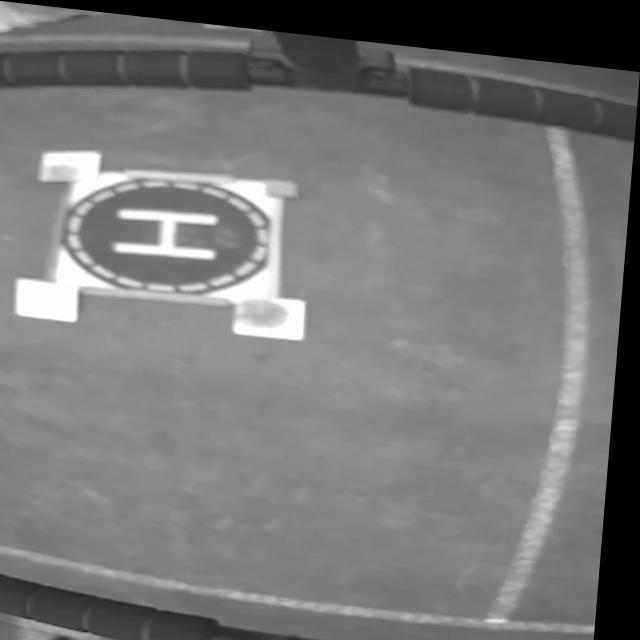Helipad: (116, 204, 222, 255)
